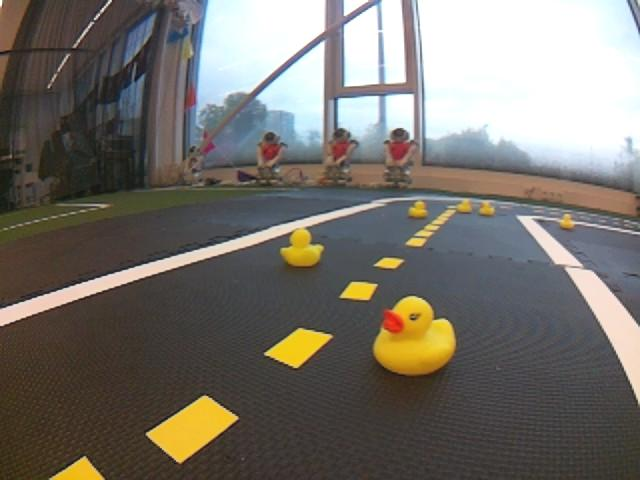Duckies: (370, 295, 457, 377), (278, 226, 326, 269), (406, 200, 429, 218), (559, 213, 577, 230), (477, 202, 496, 217), (455, 199, 474, 214)
